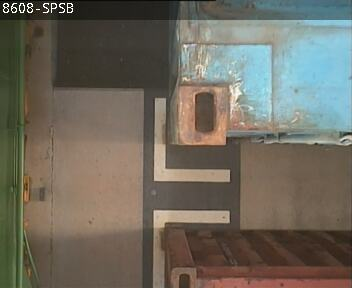groundmarker_1: (152, 96, 231, 288)
